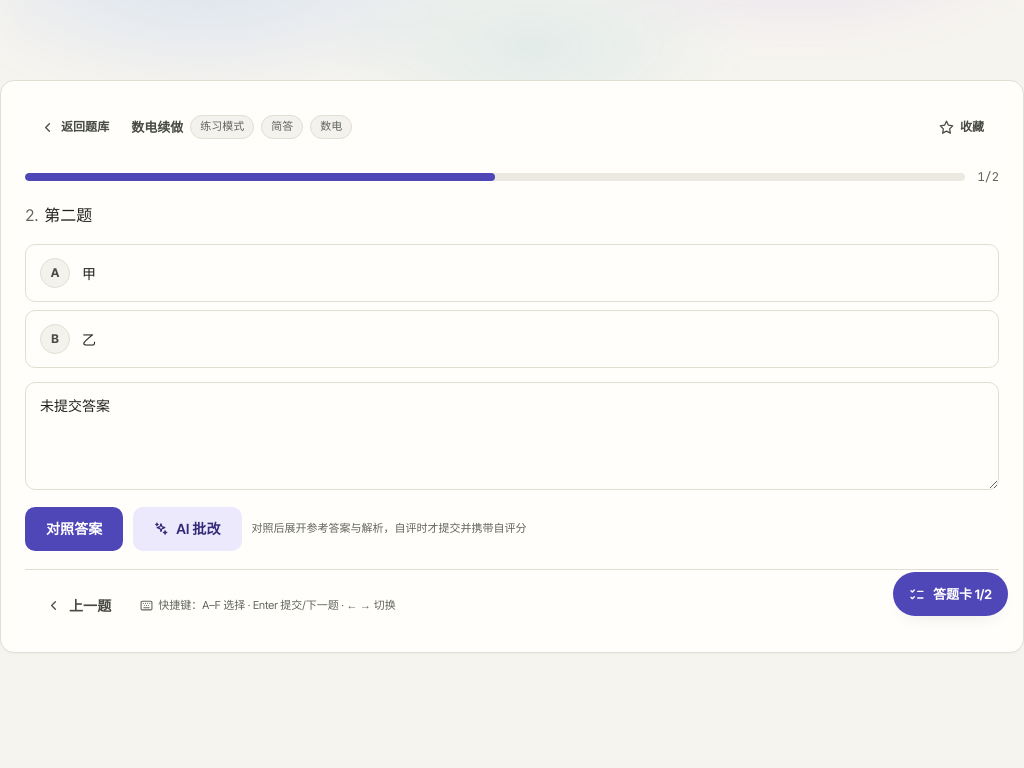
it: 普通刷题持久会话前端 › 自动保存携带题号与版本，保存失败不阻断切题
Click the button "上一题" at coordinates (79, 606), box [25,584,132,628]
Wait 700 ms
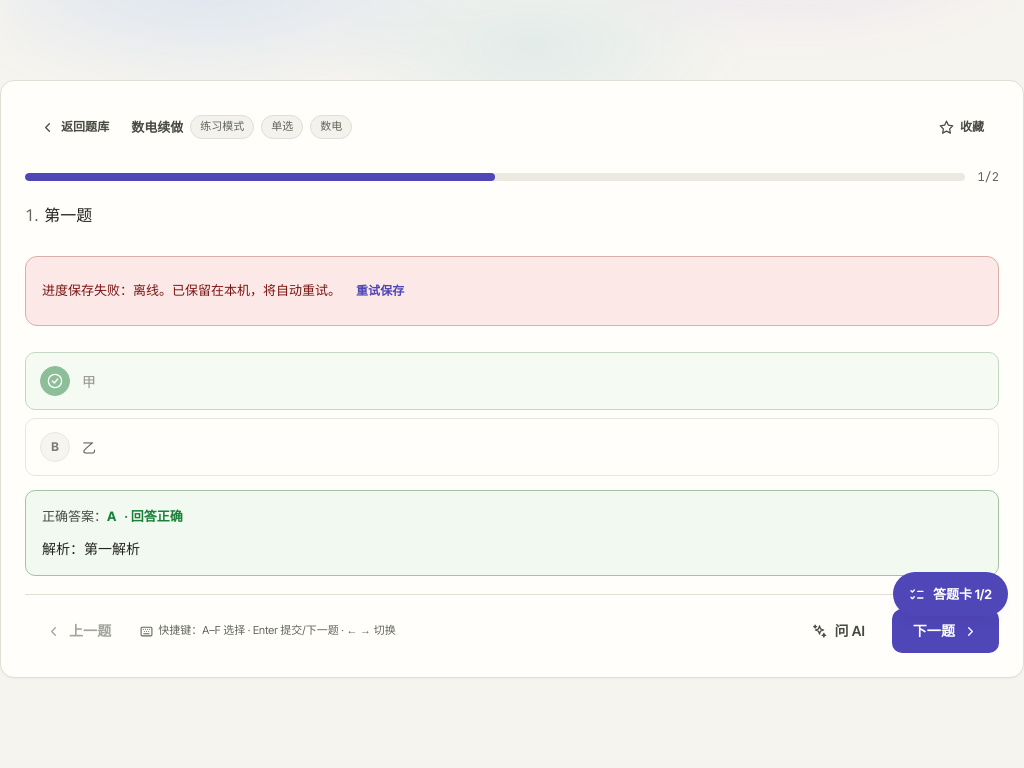
Now the text "第一题" is shown, box [44,205,92,225]
